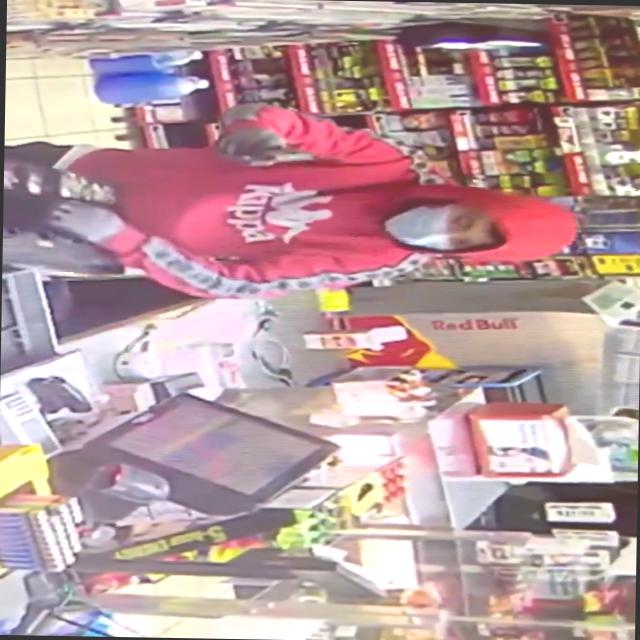handgun: (229, 141, 332, 169)
